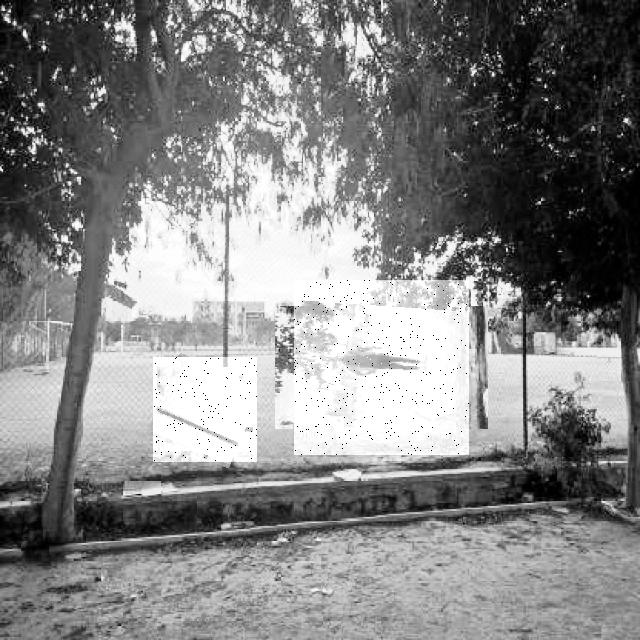anomaly-fence: (294, 280, 469, 455), (153, 357, 257, 462)
